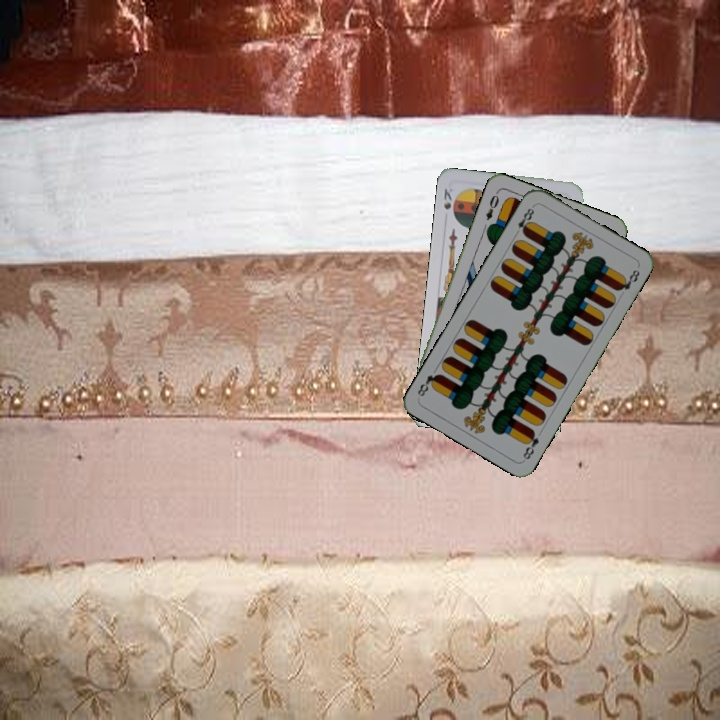E8: (511, 202, 537, 238), (519, 426, 542, 462)
EO: (482, 188, 502, 223)
SK: (439, 184, 455, 212)
